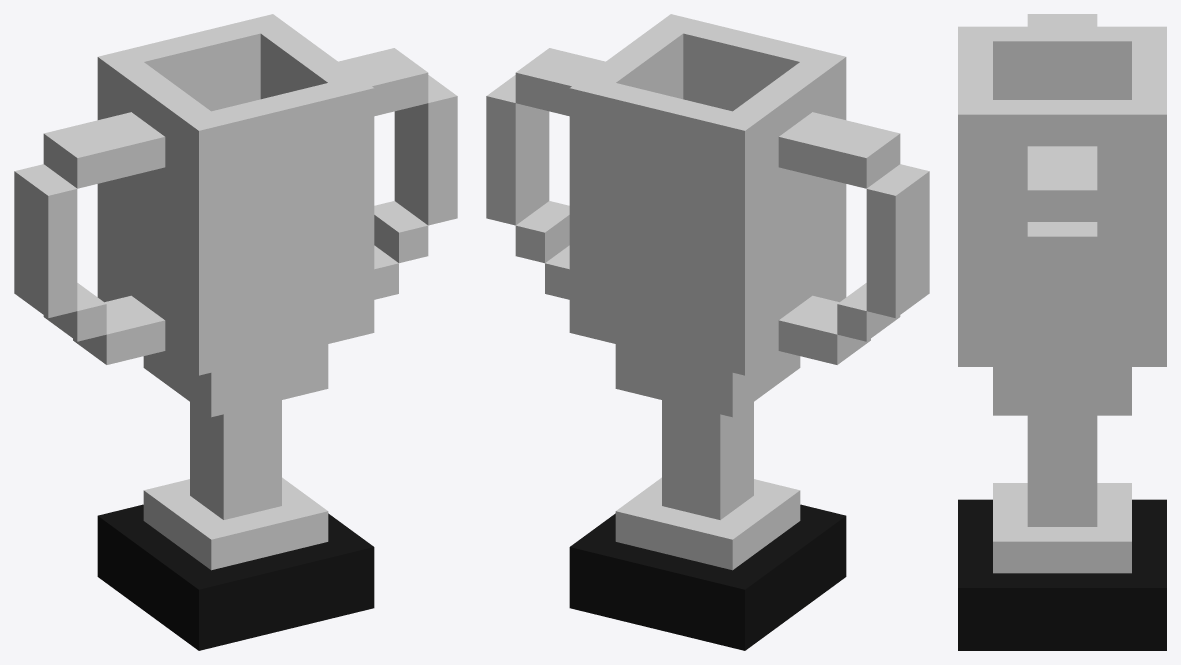
File: Trophy-7.obj
The picture shows the model from 3 angles, left to right: view 1: azimuth 30°, elevation 25°; view 2: azimuth 150°, elevation 25°; view 3: azimuth 270°, elevation 25°; orthographic projection. The views are drawn at different scales.
Visible parts, largest first — view 1: Trophy-7; view 2: Trophy-7; view 3: Trophy-7.
Boxes of the visible parts, <box> form: Trophy-7: <box>14,14,457,650</box>; Trophy-7: <box>486,14,929,650</box>; Trophy-7: <box>958,14,1166,650</box>.
Size of the model in its own units: 14 by 17 by 6.
Materials: 1 (1 with a texture image).
